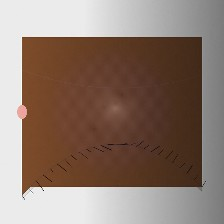hemorrhage_spot: (59, 95, 134, 155)
